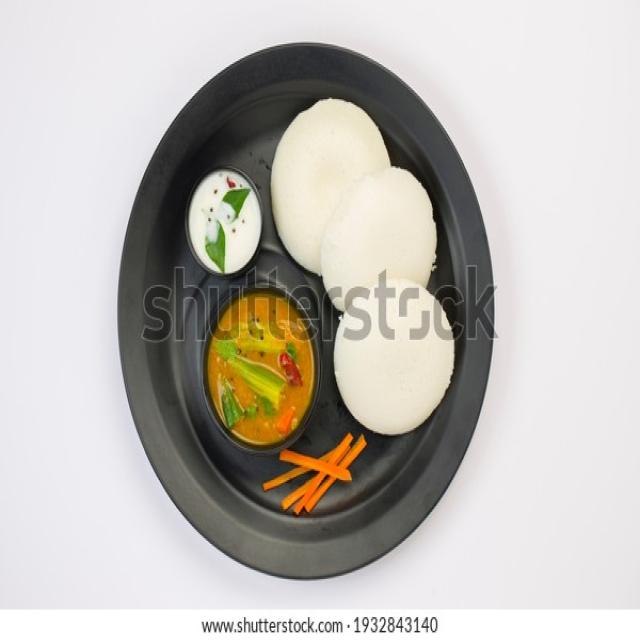IDLI: (269, 103, 393, 270), (337, 269, 452, 438), (320, 176, 437, 308)
